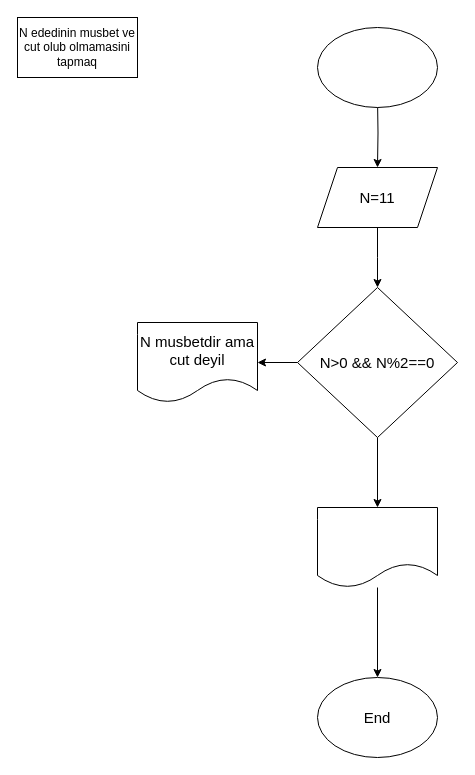
The diagram is 475 pixels wide and 775 high, and some of its shapes have lost their labels. Each missing label, with the centre of its shape:
"N musbet ve cutdur" goes at [377,547].
"Start" goes at [377,67].
